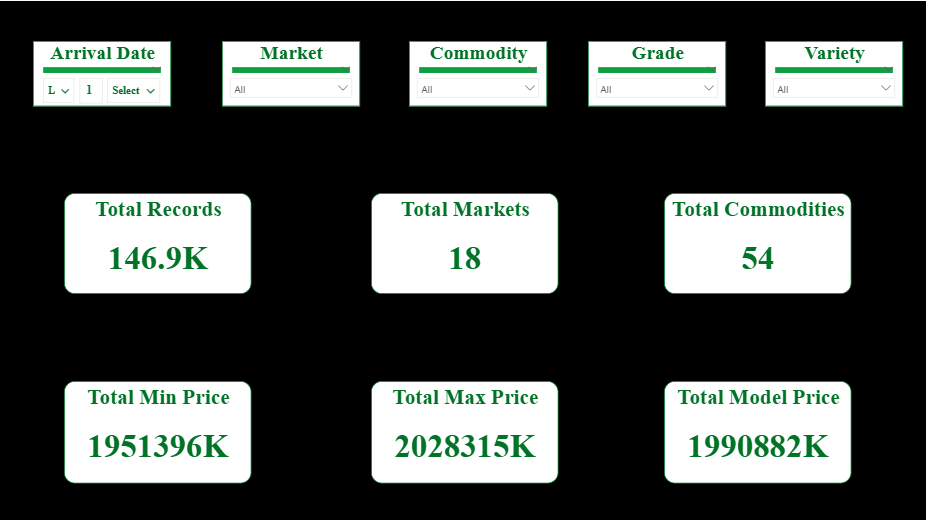

Layout of this report page (visuals, bound fields, positions):
{"tool":"powerbi","page":{"name":"KPI Cards","canvas":[1280,720],"ordinal":1},"visuals":[{"type":"card","title":"Total Max Price","fields":{"Values":["Market Sales Data.Total Max Price"]},"box":[510.6,523.4,258,140.8],"z":0},{"type":"card","title":"Total Min Price","fields":{"Values":["Market Sales Data.Total Min Price"]},"box":[88.2,523.4,258,140.8],"z":1000},{"type":"card","title":"Total Model Price","fields":{"Values":["Market Sales Data.Total Modal Price"]},"box":[914.5,523.4,258,140.8],"z":2000},{"type":"card","title":"Total Markets","fields":{"Values":["Market Sales Data.Total Markets"]},"box":[510.6,264.5,258,139.4],"z":3000},{"type":"card","title":"Total Commodities","fields":{"Values":["Market Sales Data.Total Commodities"]},"box":[914.5,264.5,258,139.4],"z":4000},{"type":"card","title":"Total Records","fields":{"Values":["Market Sales Data.Total Records"]},"box":[88.2,264.5,258,139.4],"z":5000},{"type":"slicer","title":"Arrival Date","fields":{"Values":["Market Sales Data.Arrival_Date"]},"box":[45.6,55.6,190,90],"z":6000},{"type":"slicer","title":"Market","fields":{"Values":["Market Sales Data.Market"]},"box":[305.9,55.6,190,90],"z":7000},{"type":"slicer","title":"Commodity","fields":{"Values":["Market Sales Data.Commodity"]},"box":[563.3,55.6,190,90],"z":8000},{"type":"slicer","title":"Grade","fields":{"Values":["Market Sales Data.Grade"]},"box":[809.4,55.6,190,90],"z":9000},{"type":"slicer","title":"Variety","fields":{"Values":["Market Sales Data.Variety"]},"box":[1052.6,55.6,190,90],"z":10000}]}

Visuals, with their boxes in screenshot pixels (x1, y1, x2, y2), scaled from the page's 1280x720 canvas onto the 926x520 screenshot:
"Total Max Price" card: box=[369, 378, 556, 480]
"Total Min Price" card: box=[64, 378, 250, 480]
"Total Model Price" card: box=[662, 378, 848, 480]
"Total Markets" card: box=[369, 191, 556, 292]
"Total Commodities" card: box=[662, 191, 848, 292]
"Total Records" card: box=[64, 191, 250, 292]
"Arrival Date" slicer: box=[33, 40, 170, 105]
"Market" slicer: box=[221, 40, 359, 105]
"Commodity" slicer: box=[408, 40, 545, 105]
"Grade" slicer: box=[586, 40, 723, 105]
"Variety" slicer: box=[761, 40, 899, 105]
